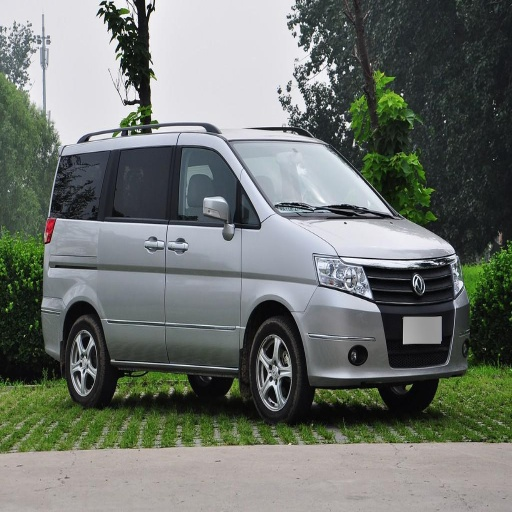front_bumper: (297, 257, 470, 383)
front_right_door: (165, 140, 256, 365)
front_right_light: (314, 254, 371, 298)
trunk: (46, 260, 95, 338)
